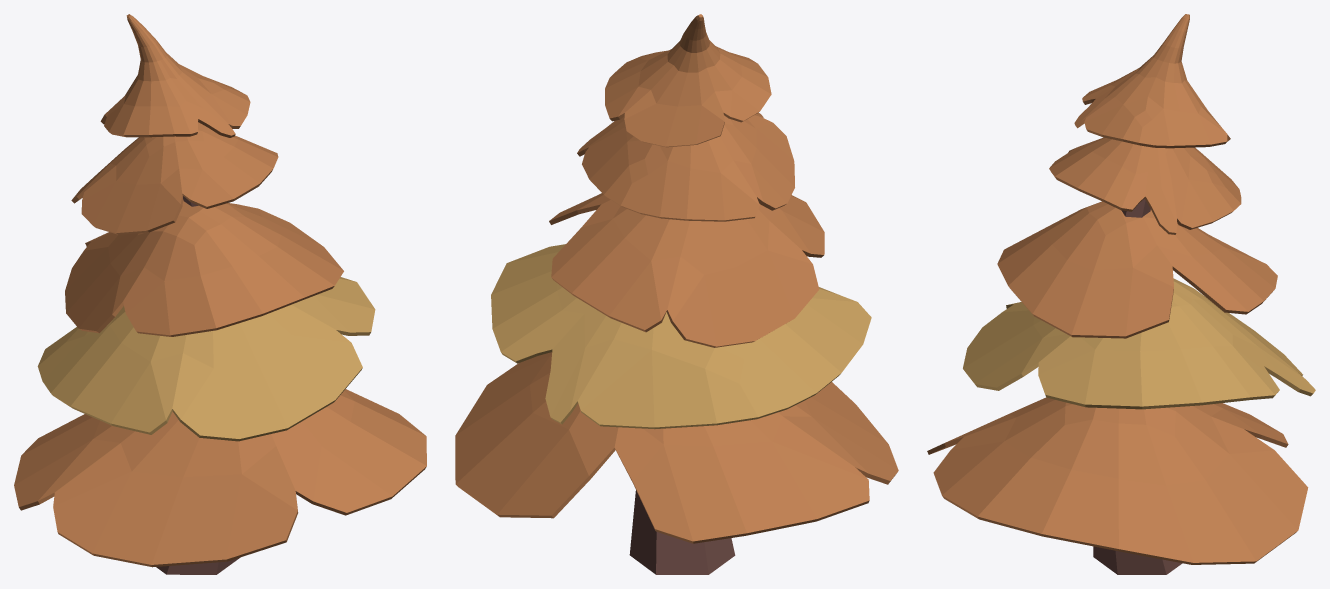
Rendered from pinetree_autumn_1.glb.
3 renders of one model, left to right at view 1: azimuth 30°, elevation 25°; view 2: azimuth 150°, elevation 25°; view 3: azimuth 270°, elevation 25°, orthographic. The views are drawn at different scales.
Visible parts, largest first — view 1: PineTree_Autumn_1; view 2: PineTree_Autumn_1; view 3: PineTree_Autumn_1.
Part boxes in pixels (x1,y1,x2,y2): PineTree_Autumn_1: (14, 14, 426, 574); PineTree_Autumn_1: (455, 14, 898, 574); PineTree_Autumn_1: (927, 14, 1315, 574).
Size of the model in its own units: 4.69 by 6.48 by 4.36.
